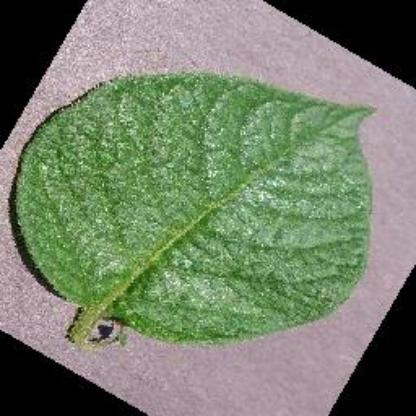Healthy-plant: (15, 70, 384, 348)
